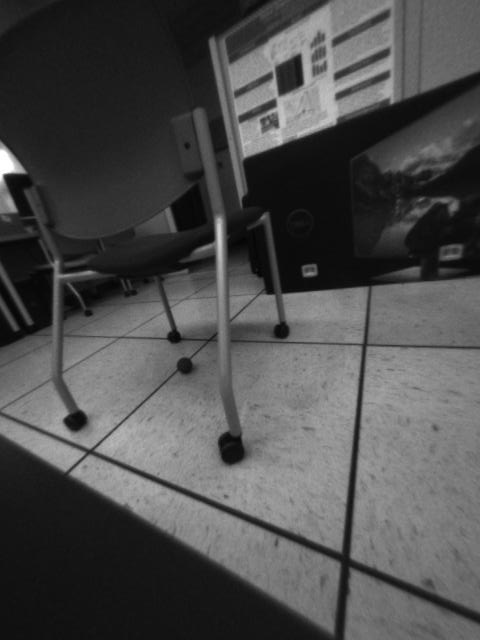dogtoy: (171, 351, 200, 377)
